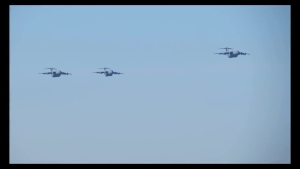flight: (212, 46, 251, 59), (37, 66, 73, 79), (91, 66, 125, 77)
